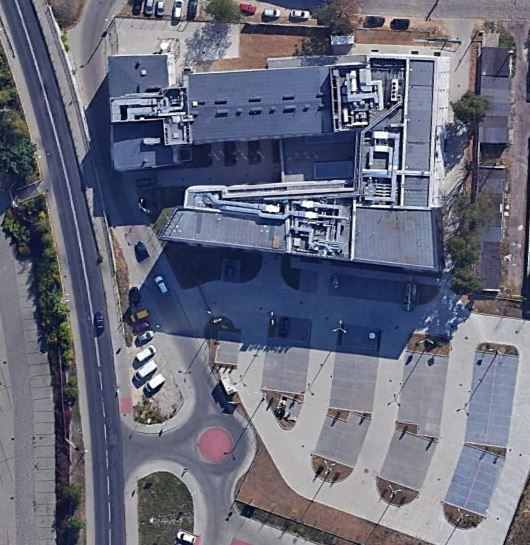shopping_center: (99, 46, 450, 286)
